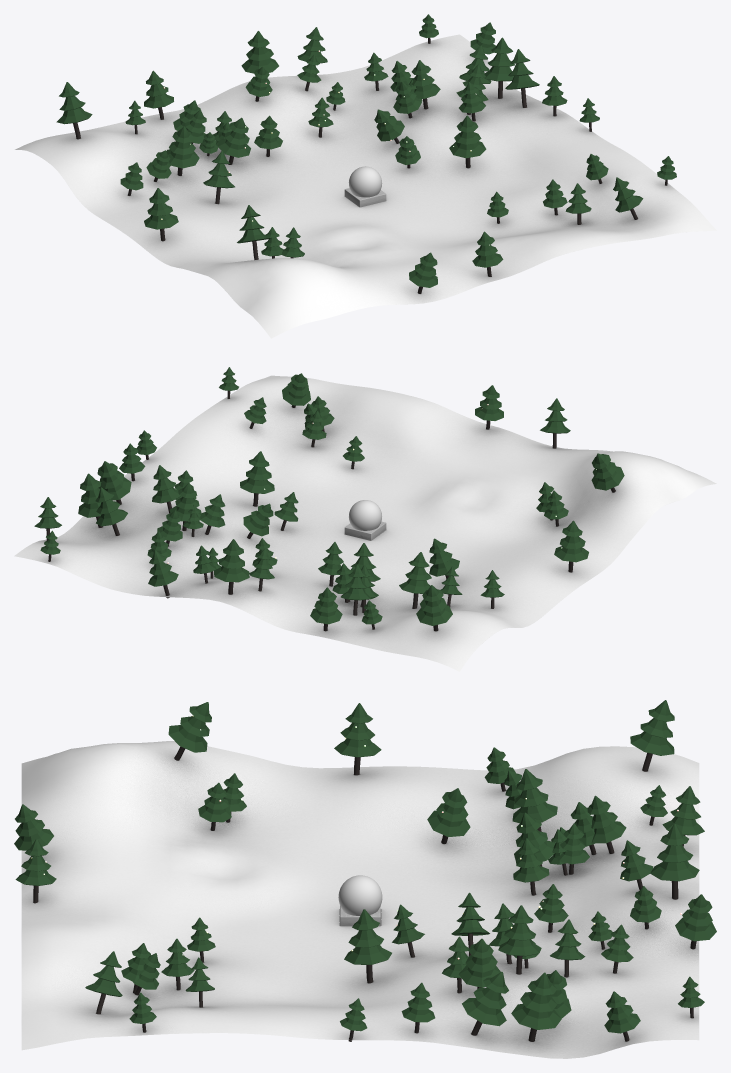
File: snowball.glb
3 renders of one model, top to bottom at view 1: azimuth 30°, elevation 25°; view 2: azimuth 150°, elevation 25°; view 3: azimuth 270°, elevation 25°, orthographic. The views are drawn at different scales.
Visible parts, largest first — view 1: ground.000, pine01.032, pine01.011, pine01.003, pine01.018, pine01.024, pine01.045, pine01.006, snowball.glass.000, pine01.047, pine01.036, pine01.017 (+12 smaller); view 2: ground.000, pine01.024, pine01.006, pine01.032, pine01.003, pine01.005, pine01.047, pine01.011, snowball.glass.000, pine01.044, pine01.015, pine01.045 (+14 smaller); view 3: ground.000, pine01.045, pine01.024, pine01.047, pine01.006, pine01.032, pine01.003, pine01.005, snowball.glass.000, pine01.010, pine01.011, pine01.036 (+33 smaller).
Part boxes in pixels (left/top/right/bottom): ground.000: left=15, top=34, right=716, bottom=338; pine01.032: left=449, top=115, right=486, bottom=168; pine01.011: left=166, top=126, right=199, bottom=175; pine01.003: left=144, top=188, right=178, bottom=241; pine01.018: left=217, top=117, right=250, bottom=164; pine01.024: left=241, top=31, right=278, bottom=73; pine01.045: left=484, top=37, right=514, bottom=98; pine01.006: left=56, top=82, right=92, bottom=139; snowball.glass.000: left=348, top=166, right=382, bottom=197; pine01.047: left=505, top=49, right=539, bottom=107; pine01.036: left=410, top=60, right=440, bottom=109; pine01.017: left=409, top=252, right=437, bottom=293; ground.000: left=14, top=375, right=716, bottom=671; pine01.024: left=214, top=539, right=249, bottom=594; pine01.006: left=416, top=585, right=452, bottom=631; pine01.032: left=240, top=451, right=274, bottom=506; pine01.003: left=554, top=520, right=588, bottom=572; pine01.005: left=591, top=453, right=624, bottom=492; pine01.047: left=97, top=461, right=131, bottom=504; pine01.011: left=399, top=552, right=431, bottom=608; snowball.glass.000: left=349, top=500, right=381, bottom=530; pine01.044: left=95, top=487, right=127, bottom=535; pine01.015: left=310, top=587, right=342, bottom=631; pine01.045: left=78, top=473, right=102, bottom=527; ground.000: left=21, top=741, right=699, bottom=1058; pine01.045: left=511, top=972, right=561, bottom=1041; pine01.024: left=650, top=824, right=699, bottom=899; pine01.047: left=462, top=971, right=508, bottom=1035; pine01.006: left=630, top=700, right=674, bottom=771; pine01.032: left=344, top=909, right=391, bottom=983; pine01.003: left=334, top=703, right=381, bottom=775; pine01.005: left=168, top=702, right=211, bottom=760; snowball.glass.000: left=338, top=875, right=382, bottom=915; pine01.010: left=427, top=788, right=470, bottom=843; pine01.011: left=512, top=769, right=557, bottom=831; pine01.036: left=498, top=905, right=541, bottom=974.
Size of the model in its own units: 2.04 by 0.3577 by 2.08.
Materials: 11 (3 with a texture image).
